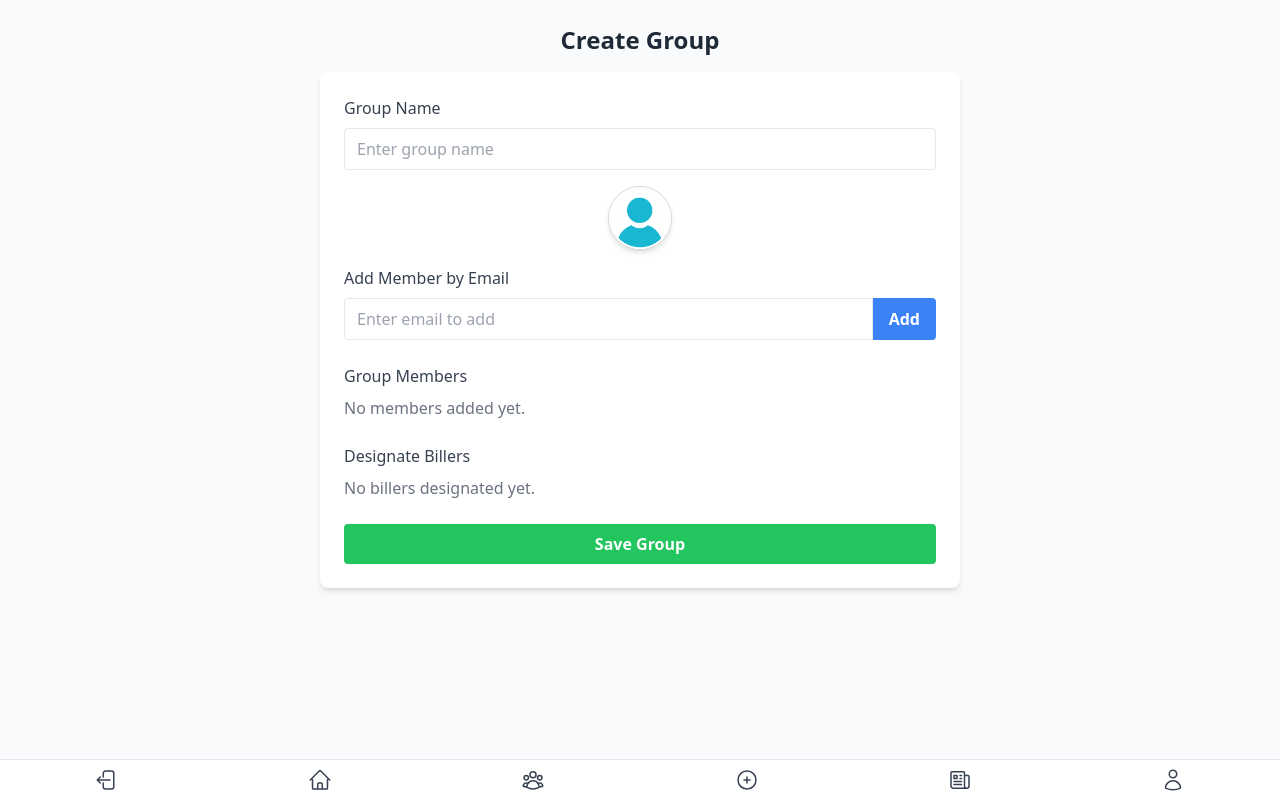
Scenario: CreateGroup Component › displays error for invalid email
Type "invalid-email" into the field with placeholder "Enter email to add". click: [608, 319]
box: [344,298,873,340]
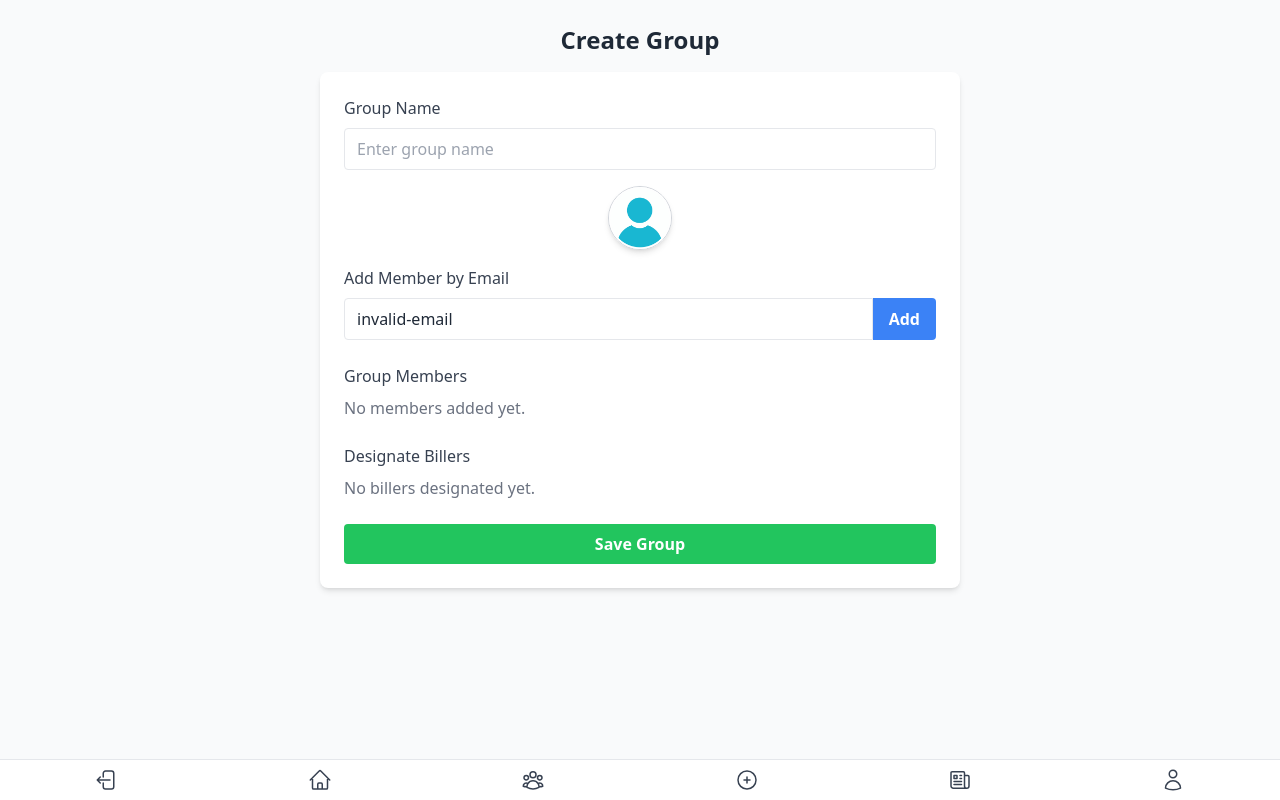
Click the button "Add". click: [904, 319]
box: [873,298,936,340]
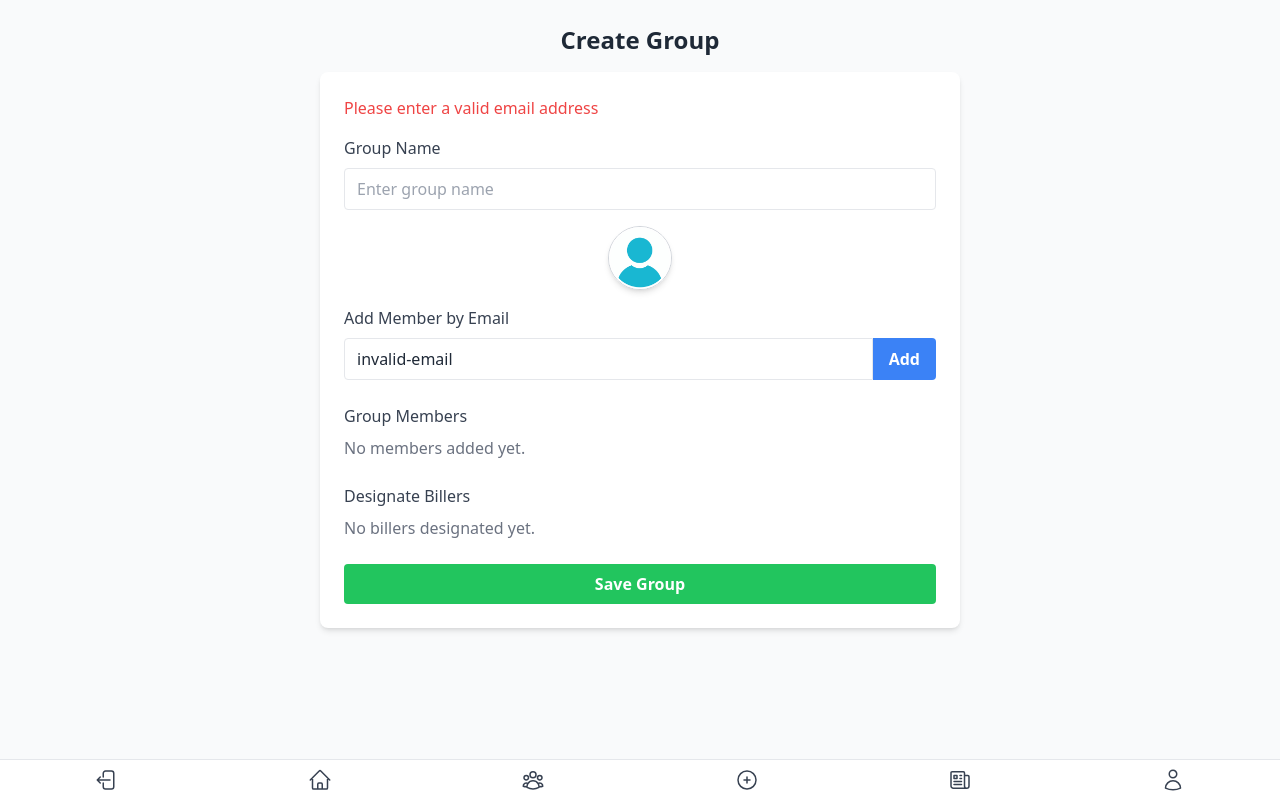
Now the text "Please enter a valid email address" is shown, box [344,97,598,119]
